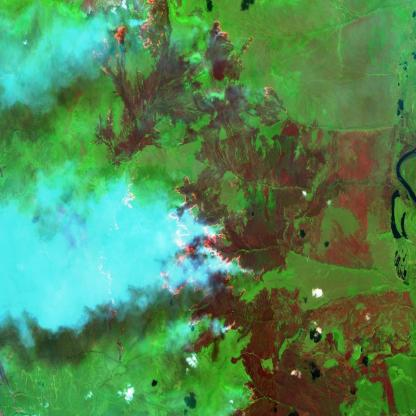fire: (89, 0, 278, 416)
